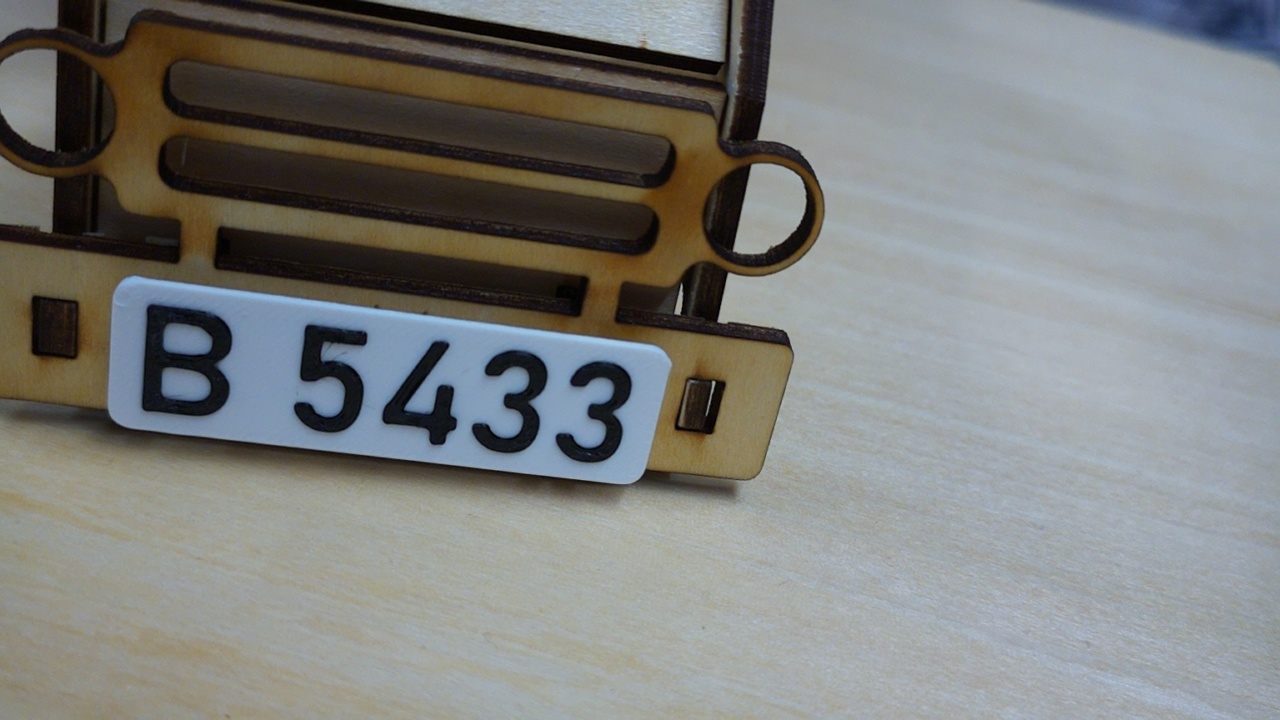license_plate: (104, 273, 673, 487)
